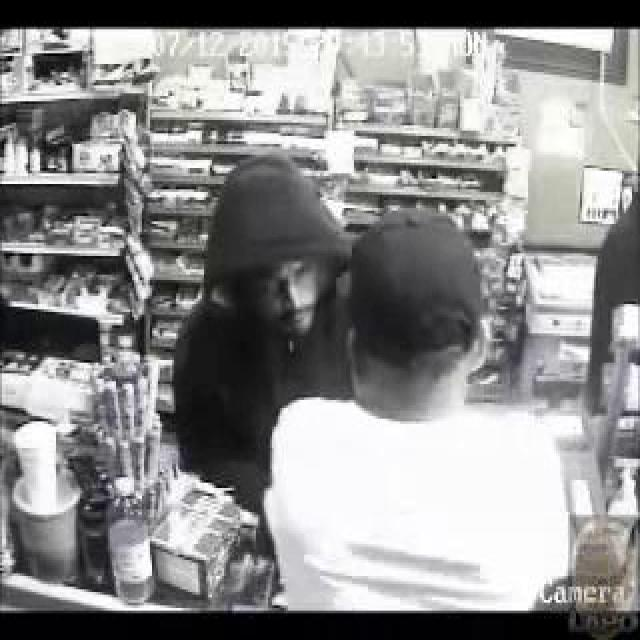robbery: (145, 90, 640, 496)
